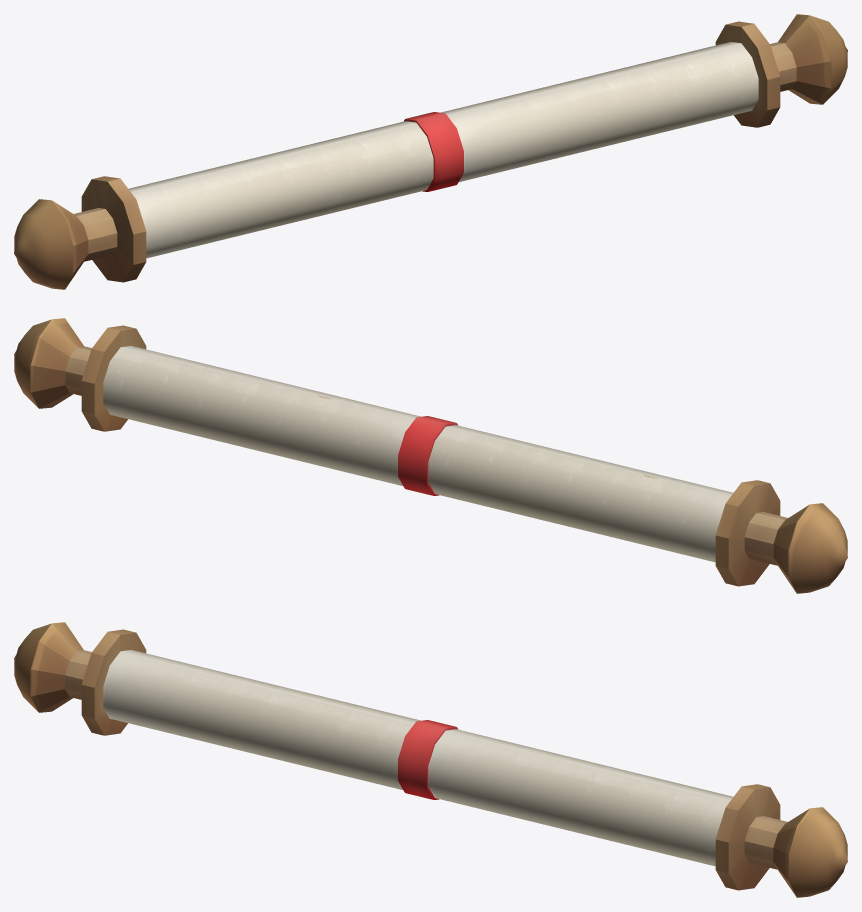
File: scroll.FBX
3 renders of one model, top to bottom at view 1: azimuth 30°, elevation 25°; view 2: azimuth 150°, elevation 25°; view 3: azimuth 330°, elevation 25°, orthographic.
Visible parts, largest first — view 1: Cylinder001; view 2: Cylinder001; view 3: Cylinder001.
Part boxes in pixels (<box>): Cylinder001: <box>14,14,847,289</box>; Cylinder001: <box>14,318,847,593</box>; Cylinder001: <box>14,622,847,897</box>.
Bounding box in the file's own units: 569 × 64.23 × 61.08.
Materials: 1 (1 with a texture image).
